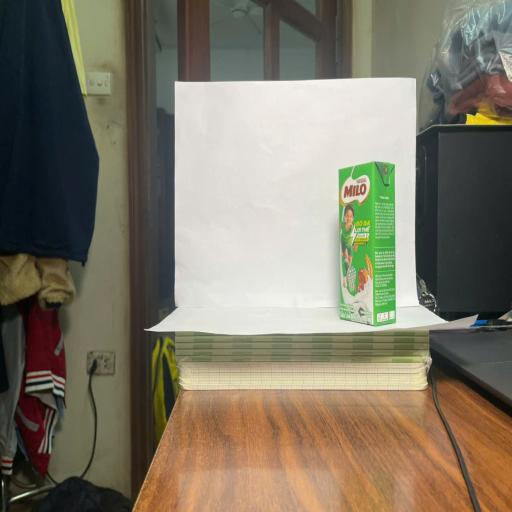milo: (340, 163, 396, 325)
